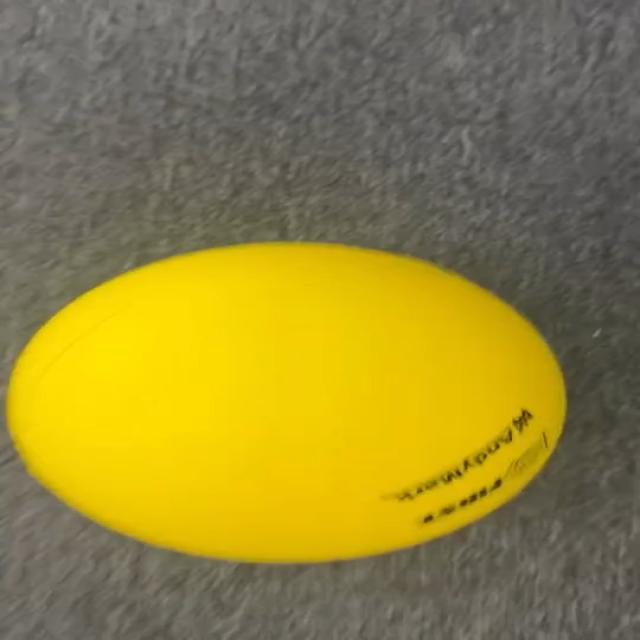Fuels: (9, 243, 567, 561)
